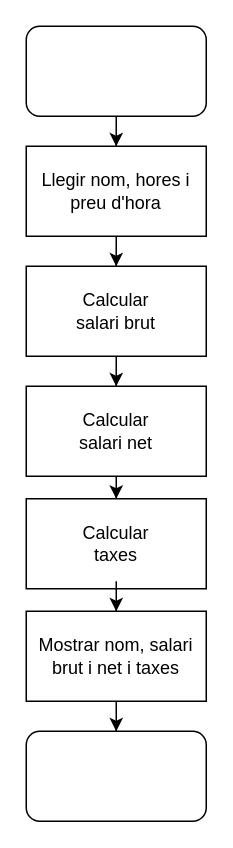
Image size: 233x848. Some labels were removed from this diagram. Each missing label, with the centre of its shape:
"Fi" goes at pixel 115 775.
"Inici" goes at pixel 115 70.
